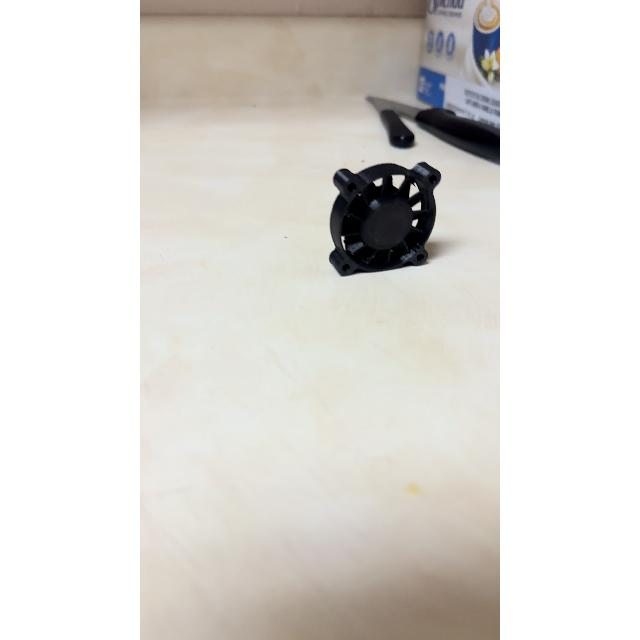Pieza_4: (316, 154, 450, 288)
